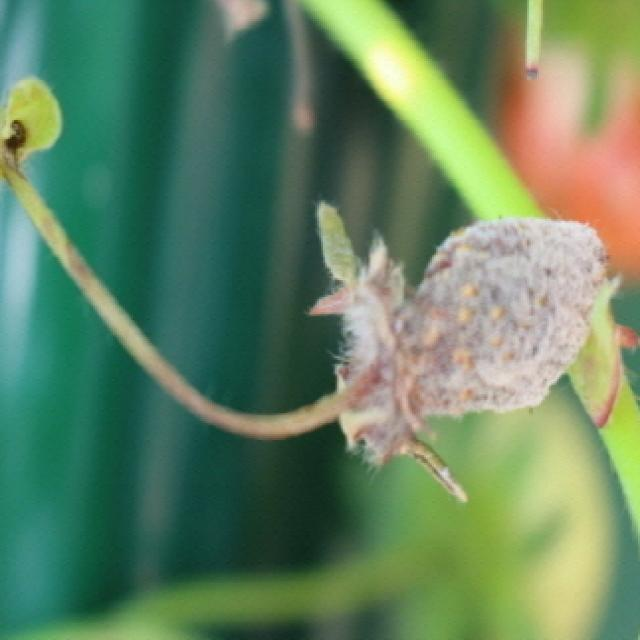Gray Mold: (308, 217, 610, 506)
